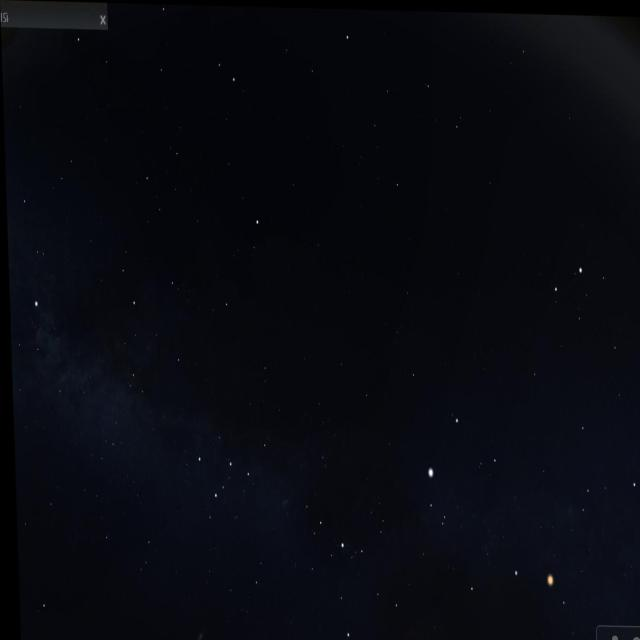cassiopeia: (192, 413, 270, 523)
